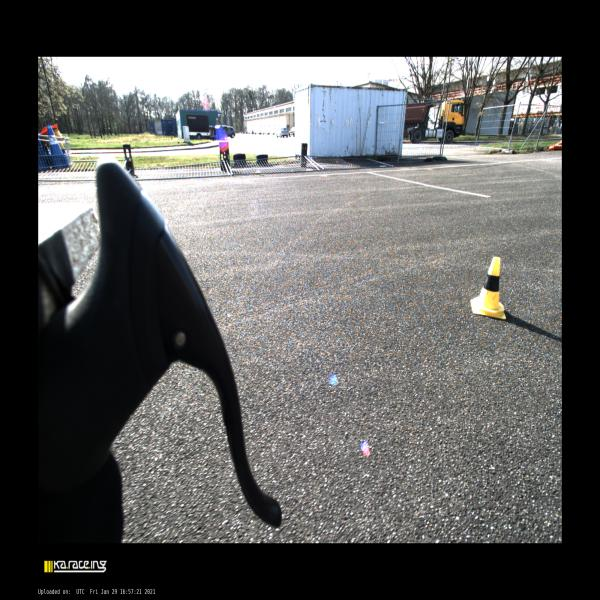blue_cone: (46, 125, 66, 158)
yellow_cone: (470, 256, 506, 320), (56, 138, 66, 153)
